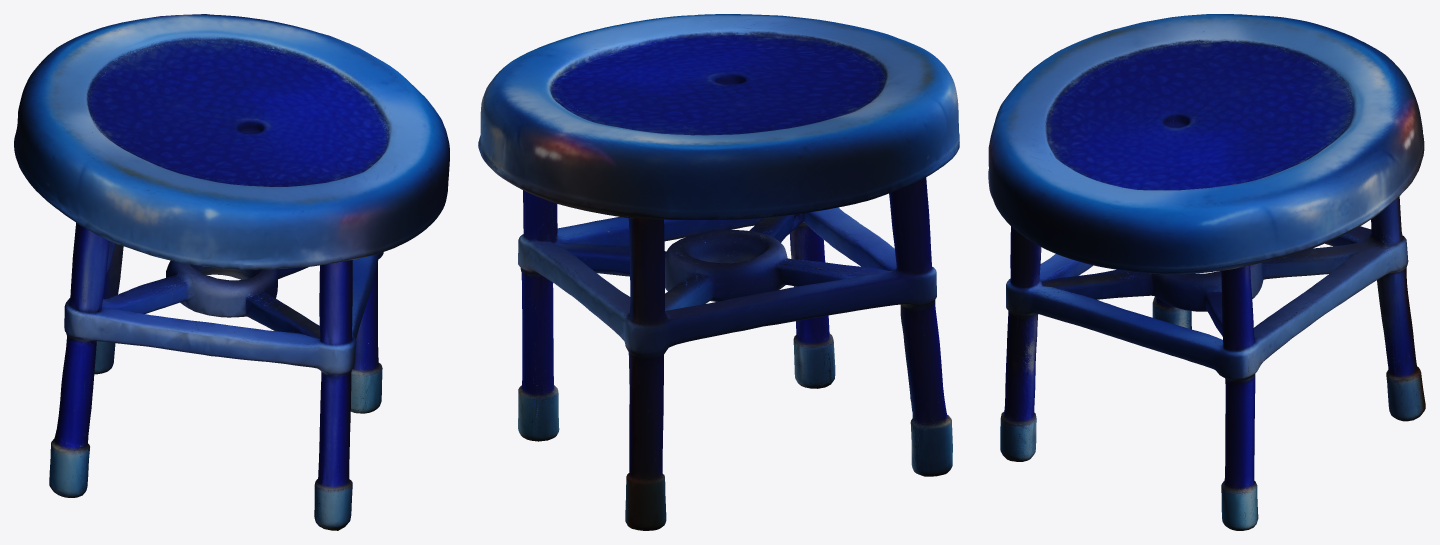
Rendered from scanned-furniture.glb.
3 views of the same model, side by side, from view 1: azimuth 30°, elevation 25°; view 2: azimuth 150°, elevation 25°; view 3: azimuth 270°, elevation 25° (orthographic). The views are drawn at different scales.
Parts seen in each view (by area): view 1: ScannedFurniture; view 2: ScannedFurniture; view 3: ScannedFurniture.
Boxes of the visible parts, x1,y1,x2,y2 form: ScannedFurniture: (14, 14, 449, 530); ScannedFurniture: (478, 14, 959, 530); ScannedFurniture: (988, 14, 1425, 530).
Bounding box in the file's own units: 0.9977 × 0.9153 × 0.9944.
Materials: 1 (1 with a texture image).
